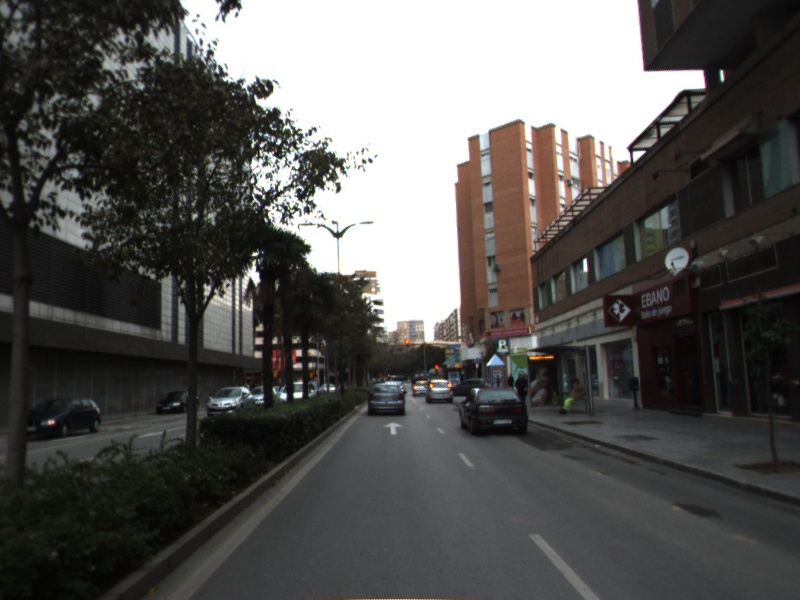STRAIGHT: (381, 419, 405, 437)
